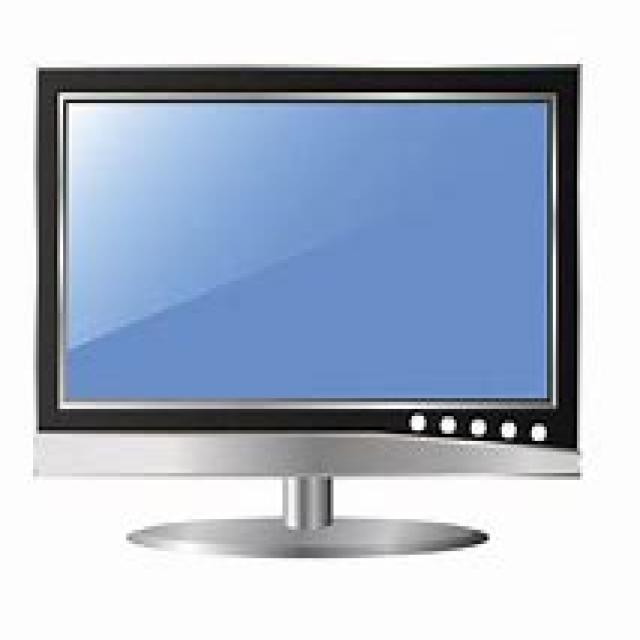tv: (33, 61, 580, 558)
